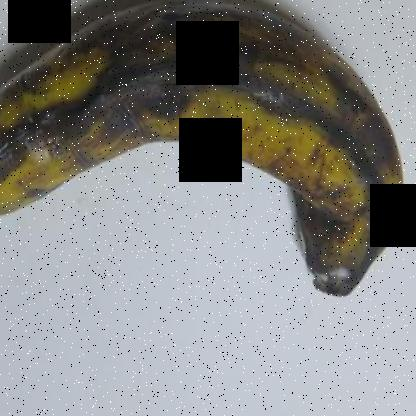overripe: (1, 1, 411, 312)
rotten: (282, 196, 392, 337)
